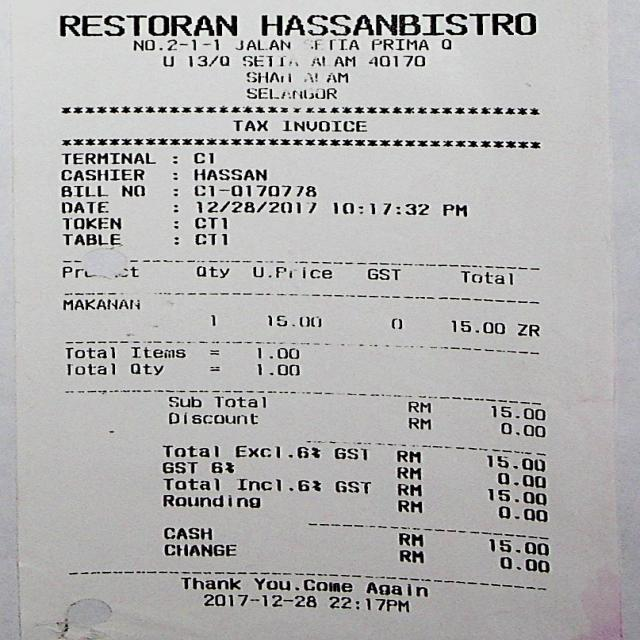text: (261, 12, 534, 36), (58, 14, 235, 36), (201, 593, 315, 607), (193, 184, 315, 197), (194, 200, 315, 213), (486, 535, 550, 557), (251, 261, 331, 278), (162, 494, 258, 508), (234, 445, 320, 460), (328, 596, 408, 612), (61, 151, 155, 164), (234, 477, 320, 491), (167, 411, 256, 424), (332, 202, 428, 214), (482, 490, 548, 507), (245, 87, 336, 99), (485, 454, 544, 472), (132, 38, 217, 50), (59, 168, 143, 180), (496, 473, 548, 492), (364, 581, 429, 596), (280, 120, 366, 131), (62, 298, 140, 310), (61, 233, 119, 249), (60, 266, 137, 278), (490, 405, 547, 421), (495, 557, 554, 572), (193, 168, 265, 180), (163, 544, 235, 556), (179, 576, 240, 590), (449, 319, 504, 334), (130, 345, 185, 359), (498, 506, 546, 522), (458, 270, 512, 284), (499, 422, 545, 438), (266, 314, 320, 327), (302, 578, 352, 592), (370, 38, 428, 50), (62, 217, 120, 229), (160, 445, 217, 457), (161, 478, 218, 490), (234, 38, 289, 50), (163, 526, 210, 540), (366, 55, 424, 66), (407, 400, 429, 429), (66, 362, 114, 375), (241, 55, 297, 66), (64, 346, 115, 358), (308, 38, 358, 50), (60, 184, 106, 197), (211, 397, 268, 407), (60, 201, 107, 213), (252, 578, 291, 592), (257, 347, 301, 359), (246, 71, 289, 83), (332, 447, 366, 462), (256, 363, 298, 375), (333, 480, 370, 493), (195, 264, 228, 278), (187, 55, 228, 66), (392, 449, 422, 464), (395, 531, 423, 547), (160, 462, 197, 474), (193, 232, 226, 245), (366, 267, 399, 280), (304, 72, 346, 82), (396, 548, 424, 563), (232, 119, 266, 131), (194, 216, 225, 229), (129, 363, 162, 375), (167, 396, 203, 407), (396, 466, 422, 479), (442, 203, 466, 216), (396, 483, 420, 496), (396, 500, 420, 513), (516, 323, 538, 336), (120, 185, 144, 196), (210, 461, 232, 473), (332, 56, 354, 66), (192, 152, 212, 163), (310, 56, 324, 66), (439, 38, 450, 49), (390, 317, 400, 328), (162, 56, 172, 66), (210, 314, 214, 326), (208, 350, 220, 354), (171, 155, 176, 164), (171, 171, 176, 180), (172, 204, 177, 212), (172, 220, 177, 228), (208, 366, 218, 370), (174, 236, 178, 244), (173, 188, 176, 196)
